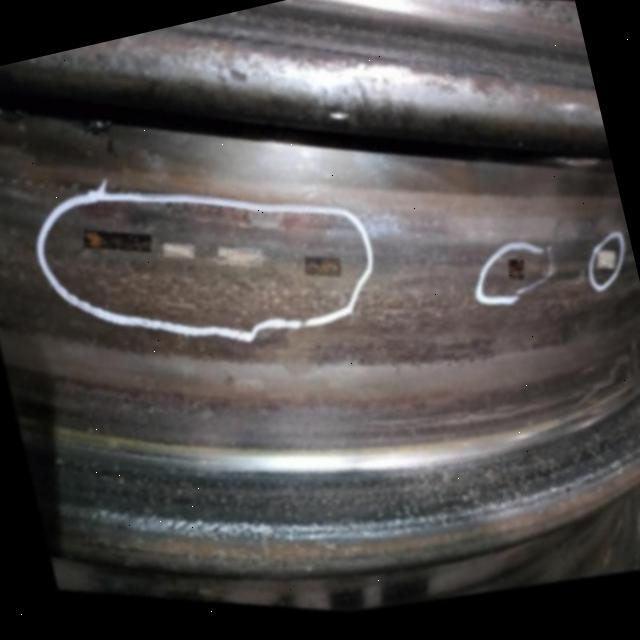Blue hole: (506, 258, 529, 284)
